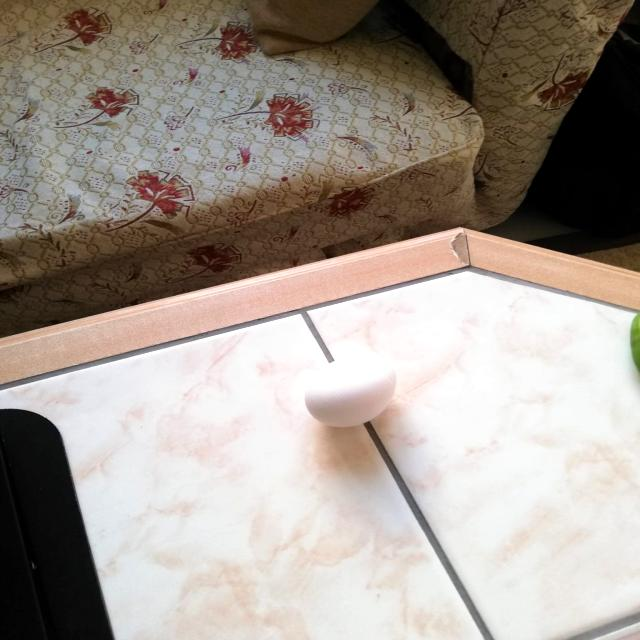egg: (299, 346, 404, 432)
